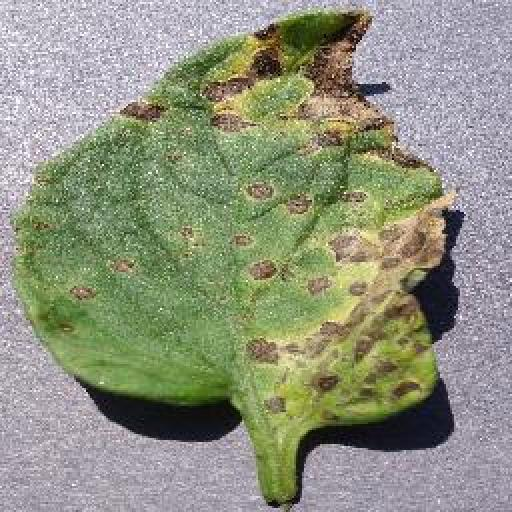disease_tomato: (15, 9, 447, 431)
